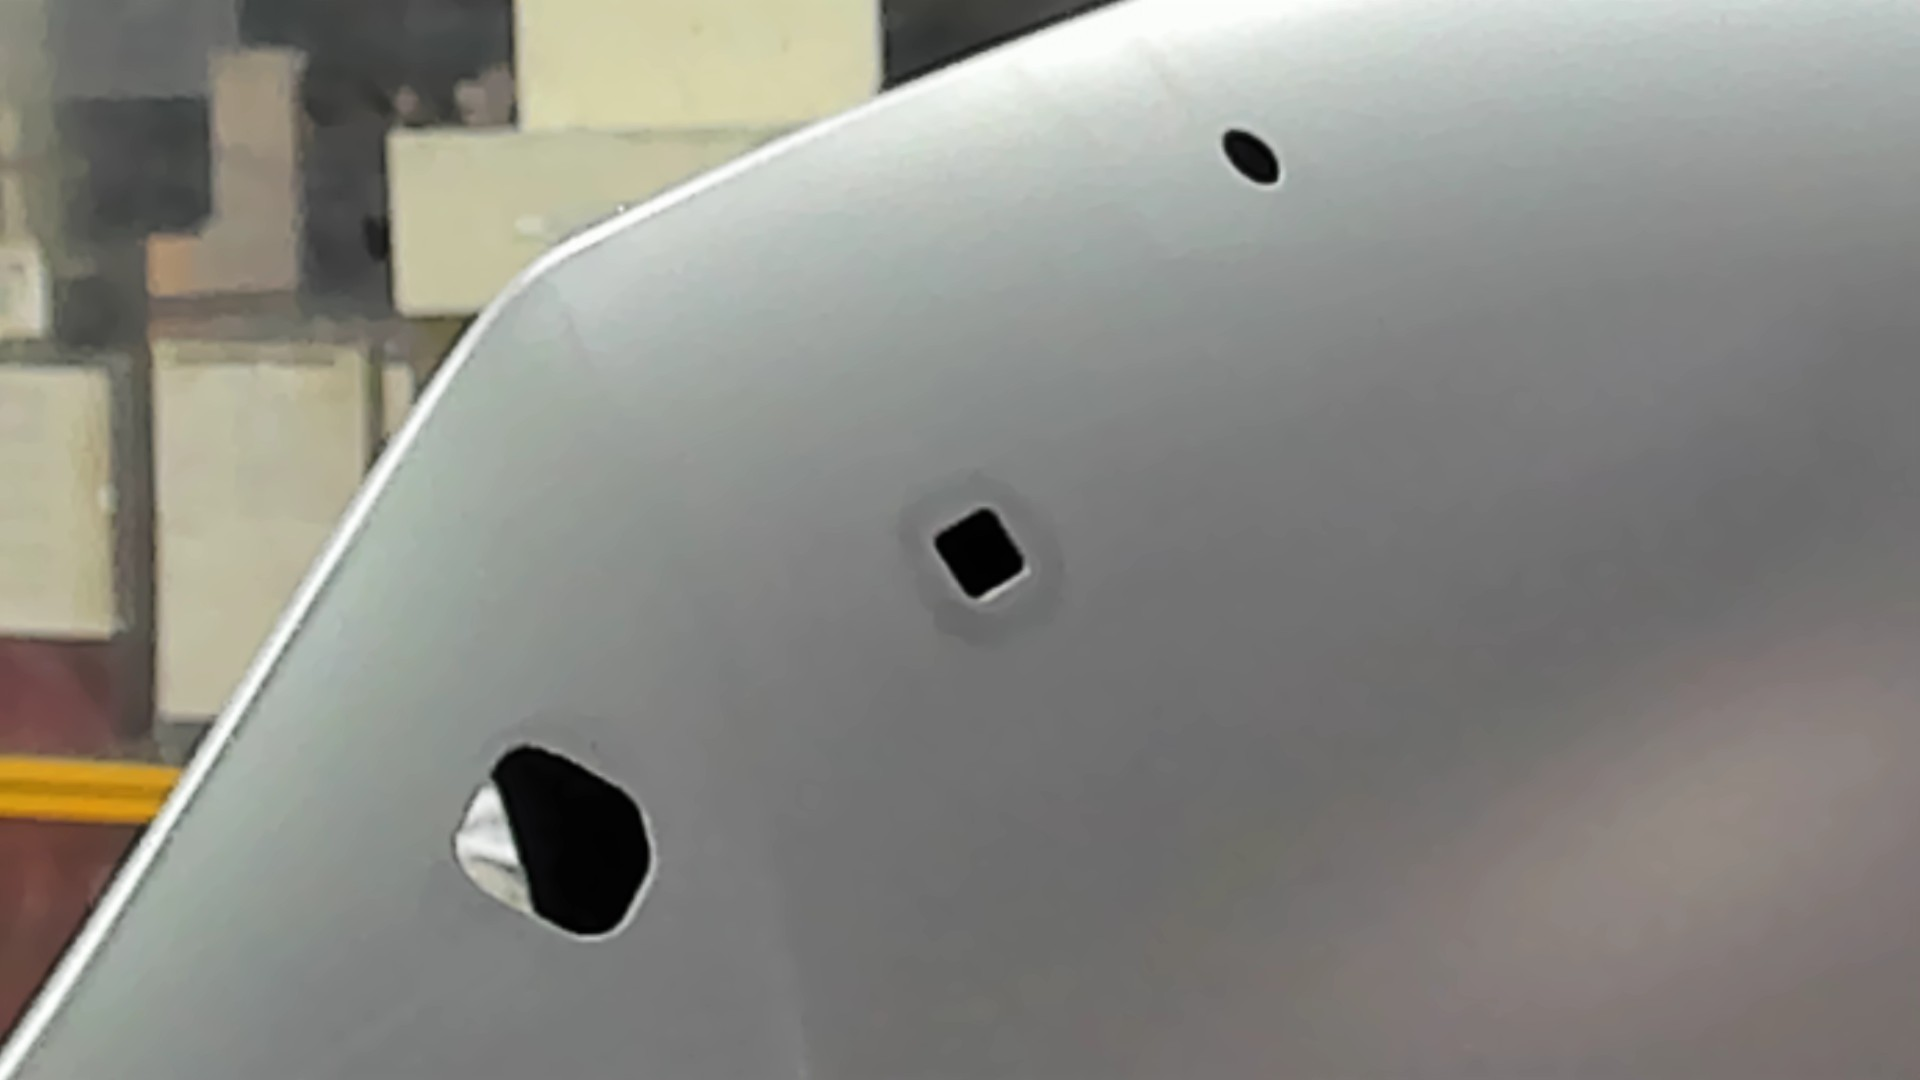chico: (1215, 123, 1286, 189)
grande: (444, 741, 663, 945)
mediano: (928, 504, 1033, 605)
